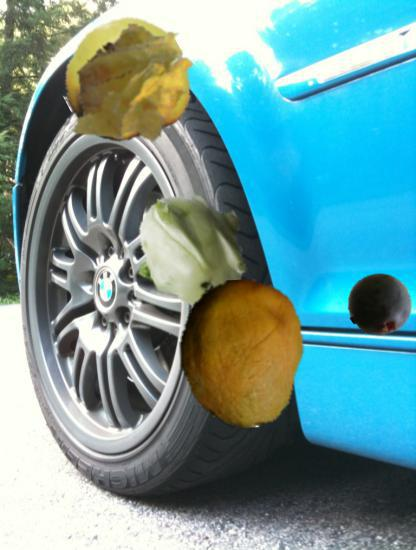Kohlrabi: (128, 189, 256, 317)
Papaya: (168, 280, 316, 428)
Physalis: (59, 15, 209, 165)
Plum: (347, 273, 412, 338)
Quince: (63, 18, 190, 145)
